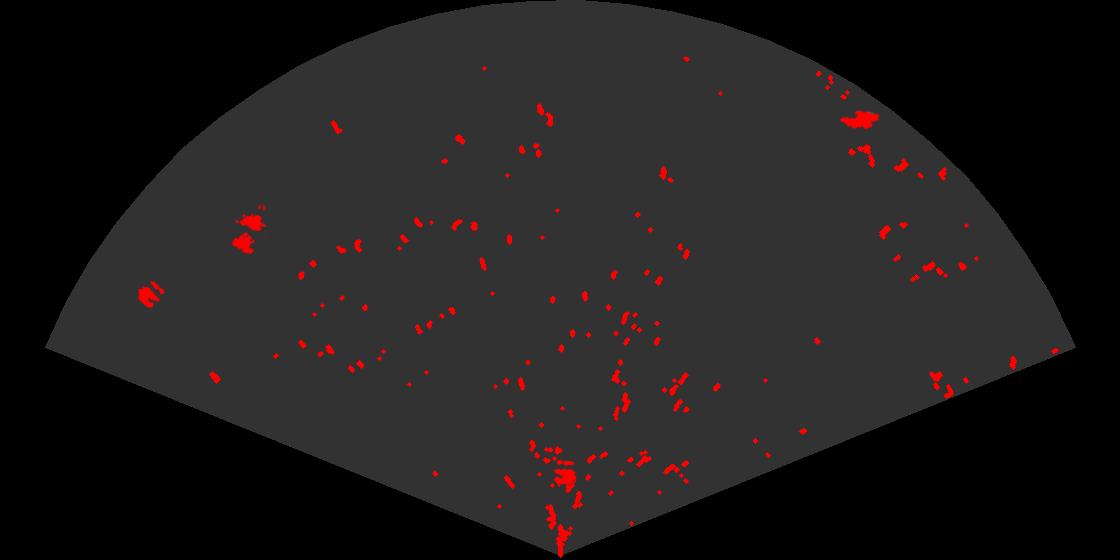AUV: (838, 109, 881, 131)
ball: (136, 279, 166, 310), (552, 458, 578, 486)
cage: (230, 205, 266, 256)
